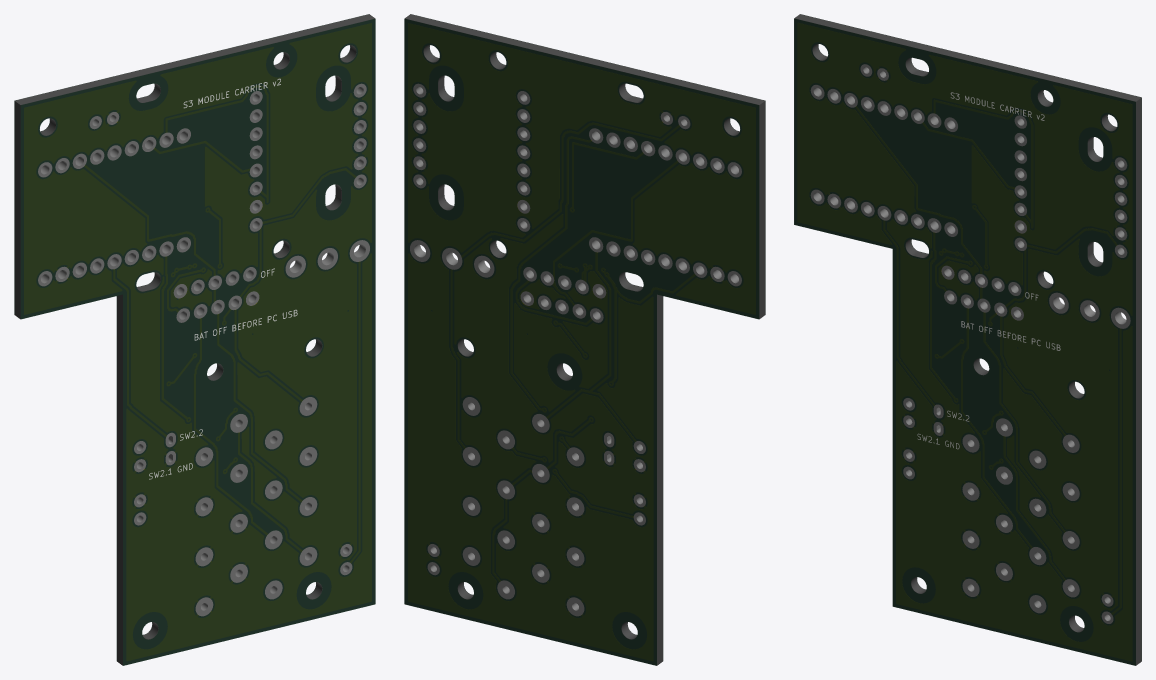
Rendered from gunmouse-final.obj.
3 renders of one model, left to right at view 1: azimuth 30°, elevation 25°; view 2: azimuth 150°, elevation 25°; view 3: azimuth 330°, elevation 25°, orthographic. The views are drawn at different scales.
Visible parts, largest first — view 1: grp8263, grp14910, grp1, grp61970, grp12303; view 2: grp8263, grp14910, grp1, grp61970; view 3: grp8263, grp14910, grp1, grp61970, grp12303.
Part boxes in pixels (x1=…): grp8263: x1=14, y1=14, x2=375, y2=665; grp14910: x1=24, y1=23, x2=371, y2=660; grp1: x1=14, y1=14, x2=374, y2=665; grp61970: x1=38, y1=83, x2=369, y2=616; grp12303: x1=149, y1=78, x2=297, y2=479; grp8263: x1=404, y1=14, x2=765, y2=665; grp14910: x1=408, y1=23, x2=755, y2=660; grp1: x1=405, y1=14, x2=765, y2=665; grp61970: x1=410, y1=83, x2=741, y2=616; grp8263: x1=794, y1=14, x2=1141, y2=665; grp14910: x1=798, y1=23, x2=1131, y2=660; grp1: x1=794, y1=14, x2=1141, y2=665; grp61970: x1=810, y1=64, x2=1130, y2=623; grp12303: x1=917, y1=92, x2=1060, y2=449.
Bounding box in the file's own units: 52 × 82 × 1.63.
